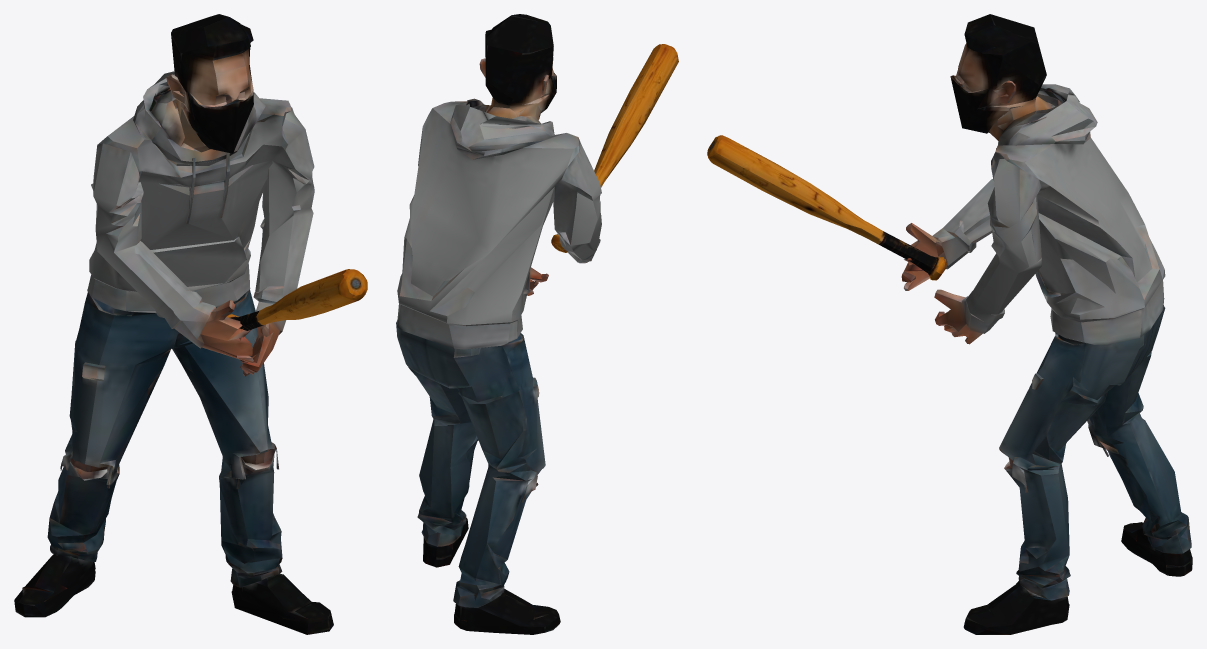
Rendered from perusuh_idle_lod2.glb.
3 renders of one model, left to right at view 1: azimuth 30°, elevation 25°; view 2: azimuth 150°, elevation 25°; view 3: azimuth 270°, elevation 25°, orthographic. The views are drawn at different scales.
Visible parts, largest first — view 1: body; view 2: body; view 3: body.
Boxes of the visible parts, x1,y1,x2,y2 form: body: (14,14,367,634); body: (396,14,678,634); body: (707,14,1192,634).
Size of the model in its own units: 36.1 by 94.13 by 72.69.
2 materials, 2 textured.
